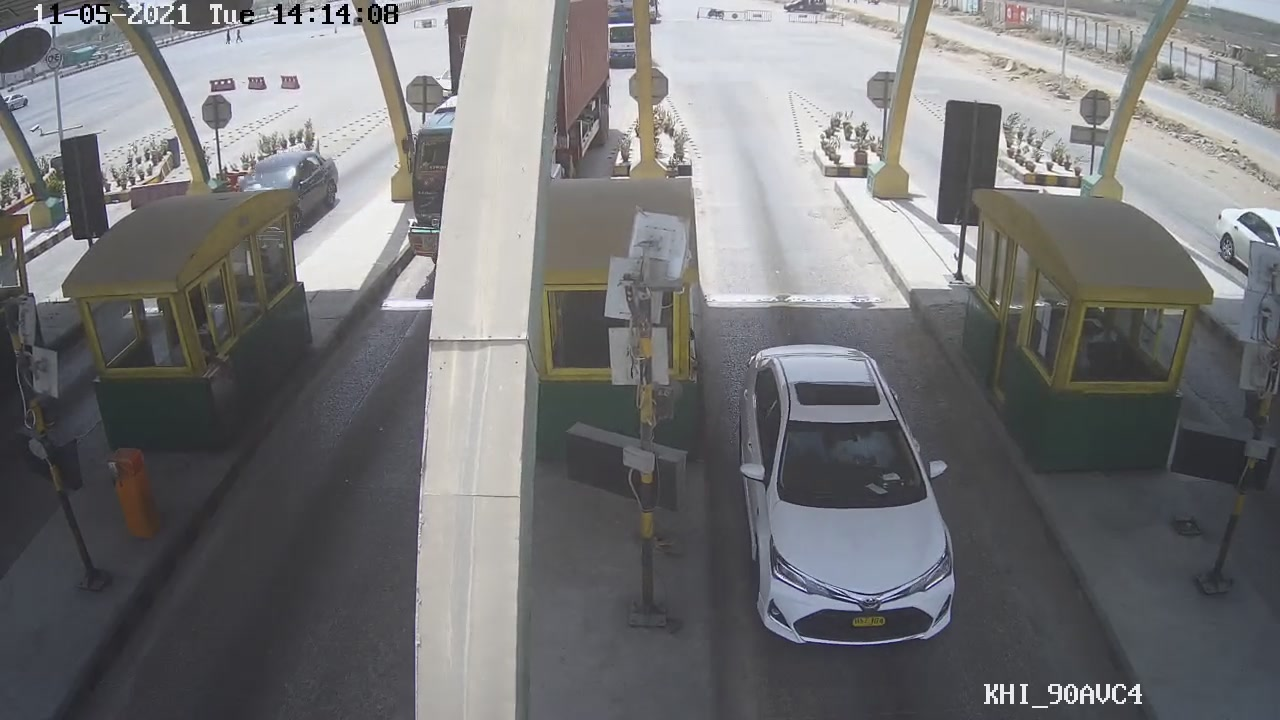F1: (727, 339, 960, 659)
